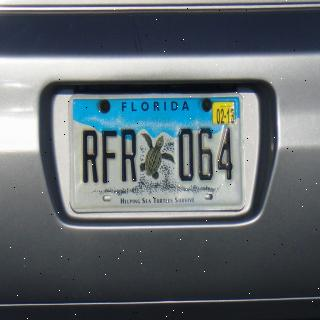license: (68, 94, 248, 215)
